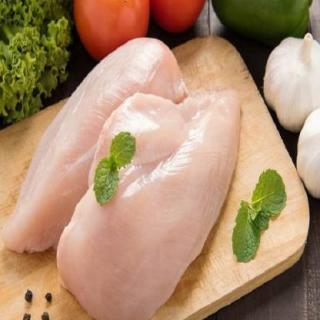Ayam: (10, 40, 243, 318), (59, 99, 242, 318), (8, 41, 189, 259)
